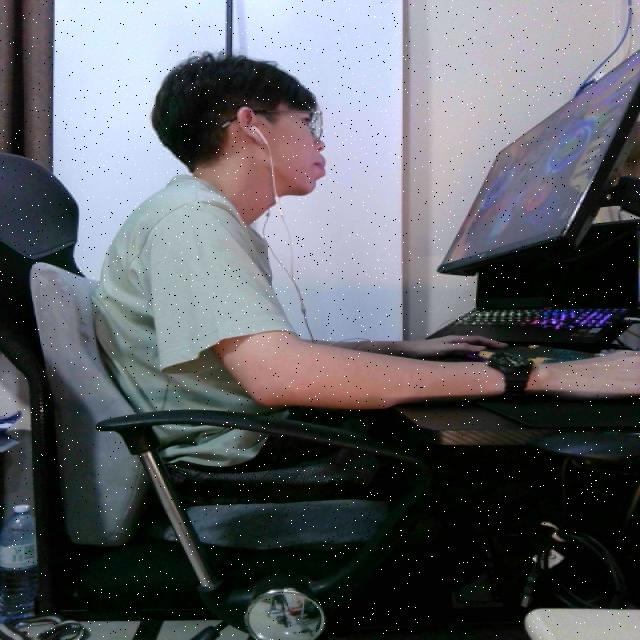Bad: (84, 45, 444, 528)
